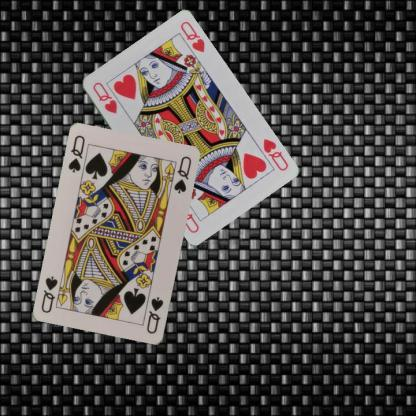Qh: (260, 136, 289, 172), (90, 79, 118, 115)
Qs: (144, 294, 165, 336), (66, 133, 87, 174)
